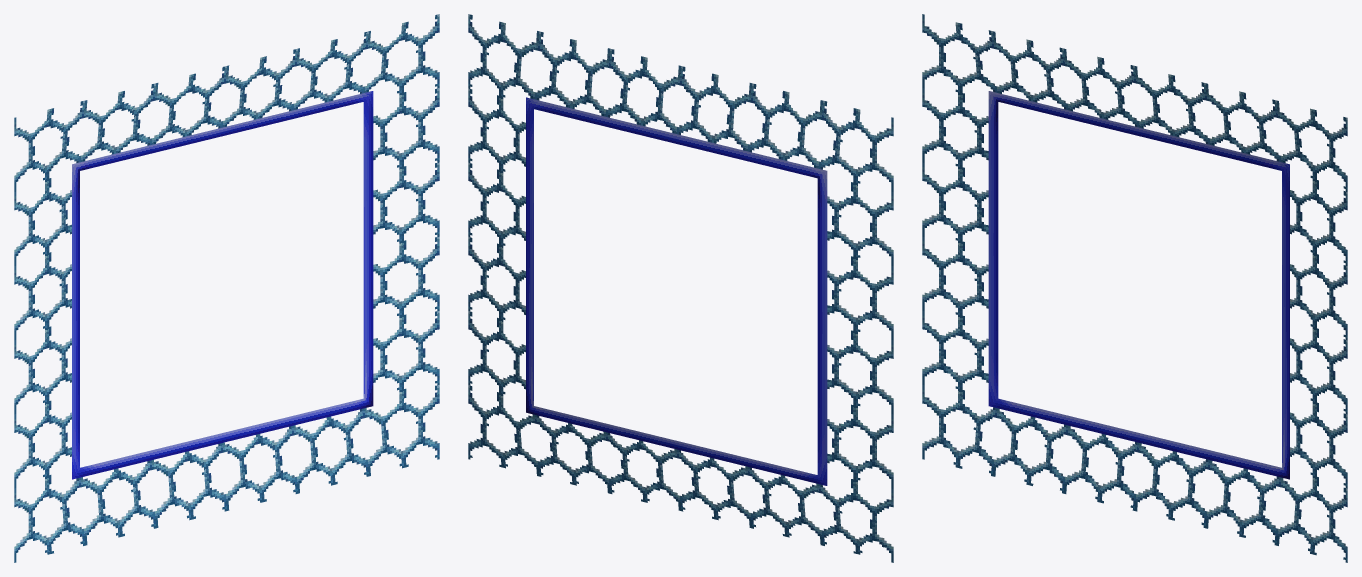
The model's file is fence_revolve_outer.dae.
3 renders of one model, left to right at view 1: azimuth 30°, elevation 25°; view 2: azimuth 150°, elevation 25°; view 3: azimuth 330°, elevation 25°, orthographic.
Visible parts, largest first — view 1: n0b0, n1b1; view 2: n0b0, n1b1; view 3: n0b0, n1b1.
Boxes of the visible parts, left/top/right/bottom form: n0b0: left=14, top=14, right=439, bottom=562; n1b1: left=72, top=91, right=373, bottom=479; n0b0: left=468, top=14, right=893, bottom=562; n1b1: left=526, top=97, right=827, bottom=485; n0b0: left=922, top=14, right=1347, bottom=562; n1b1: left=988, top=91, right=1289, bottom=479.
Bounding box in the file's own units: 600 × 600 × 12.36.
